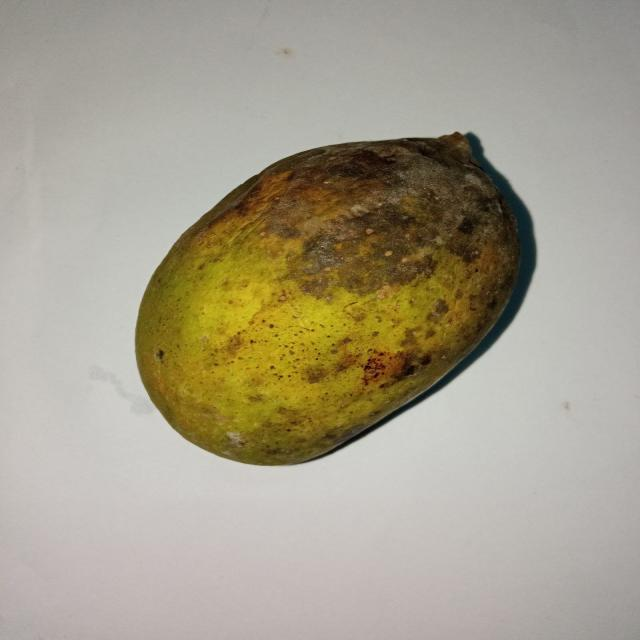rotten_mango: (132, 132, 521, 464)
